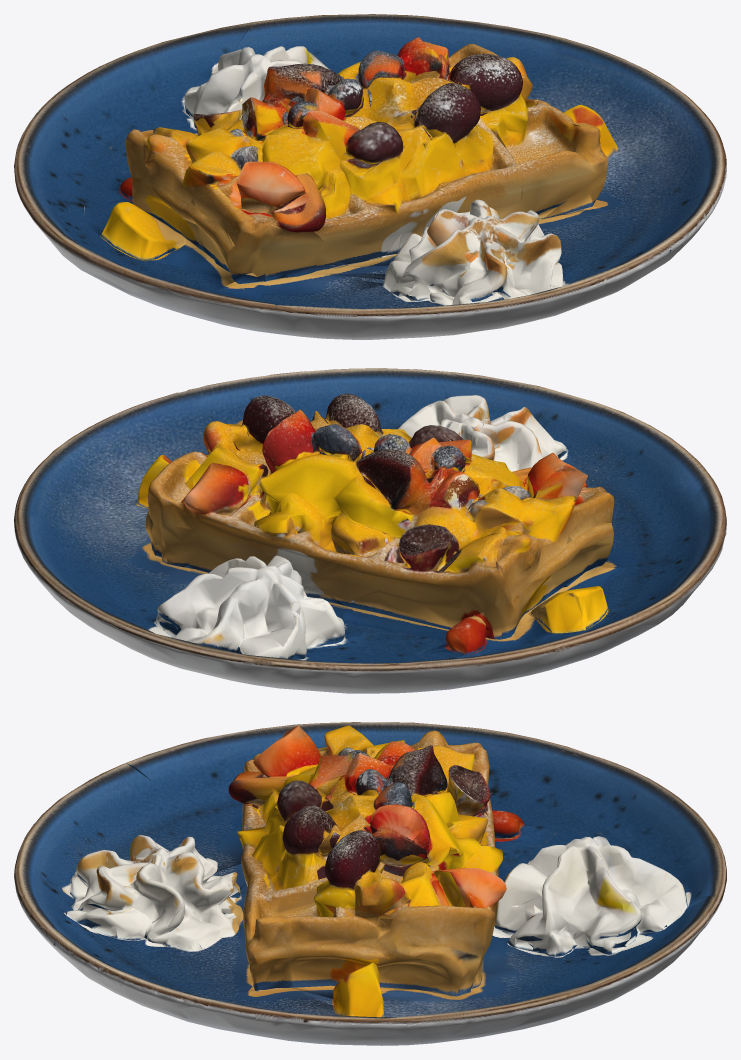
File: gofr-z-owocami.glb
The picture shows the model from 3 angles, top to bottom: view 1: azimuth 30°, elevation 25°; view 2: azimuth 150°, elevation 25°; view 3: azimuth 270°, elevation 25°; orthographic projection.
Visible parts, largest first — view 1: output_unwrapped; view 2: output_unwrapped; view 3: output_unwrapped.
Part boxes in pixels (x1,y1,x2,y2): output_unwrapped: (14,14,726,339); output_unwrapped: (14,368,726,693); output_unwrapped: (14,722,726,1045).
Size of the model in its own units: 0.1031 by 0.025 by 0.1031.
Materials: 1 (1 with a texture image).
